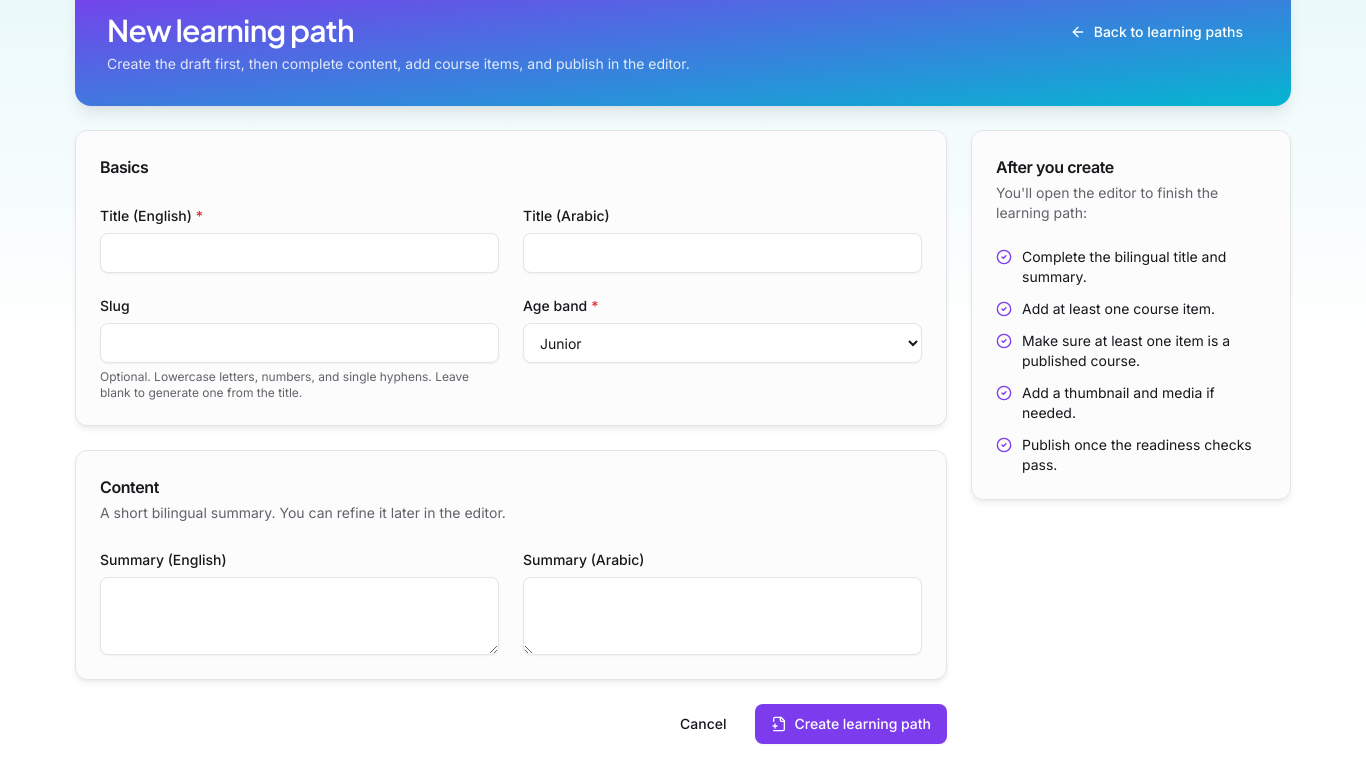
Test case: LearningPathCreatePage › shows a required validation error and does not submit
(page scrolled)
Click the button "Create learning path": (851,724) [754, 704, 947, 744]
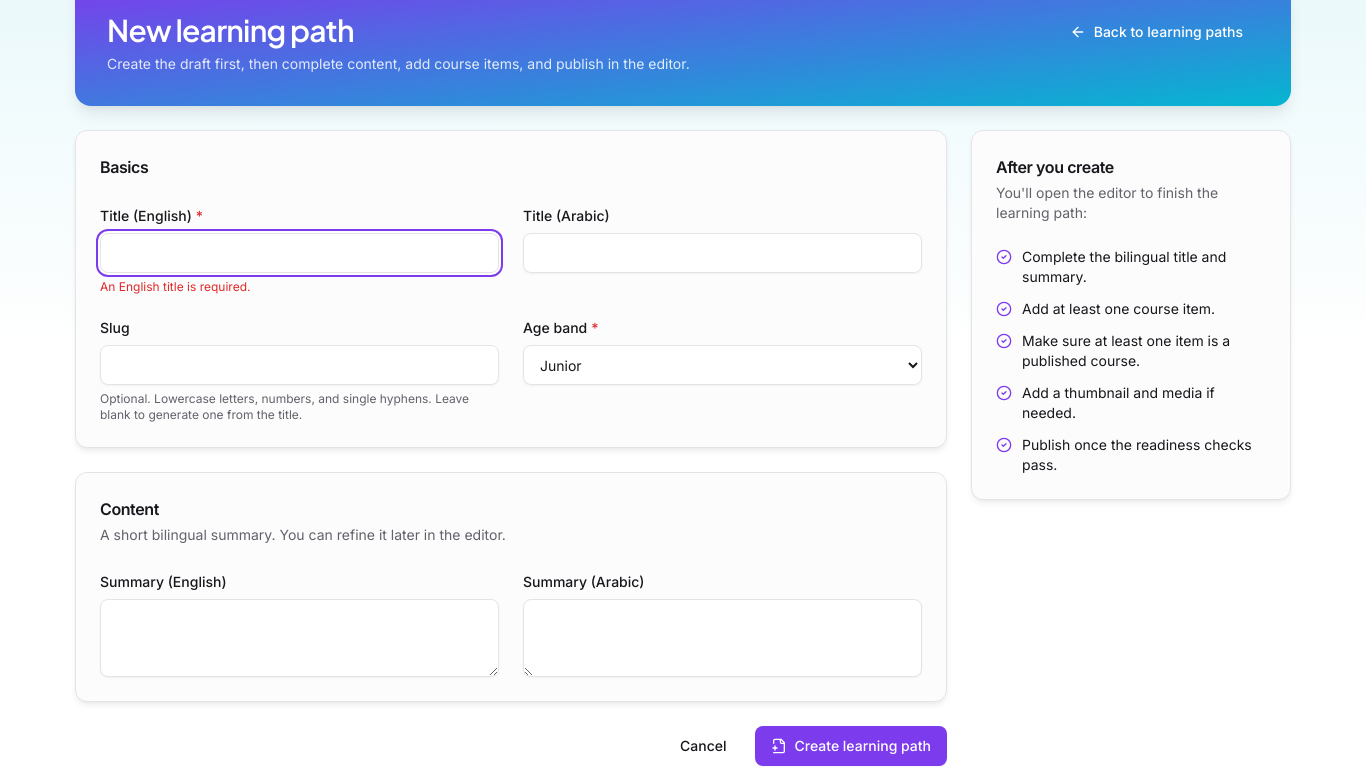
expect the text "An English title is required." is shown: met, box [100, 279, 250, 294]
